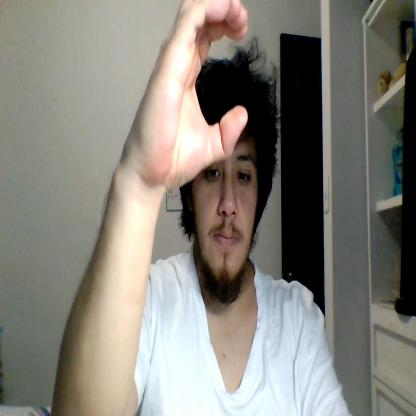C: (137, 0, 248, 188)
